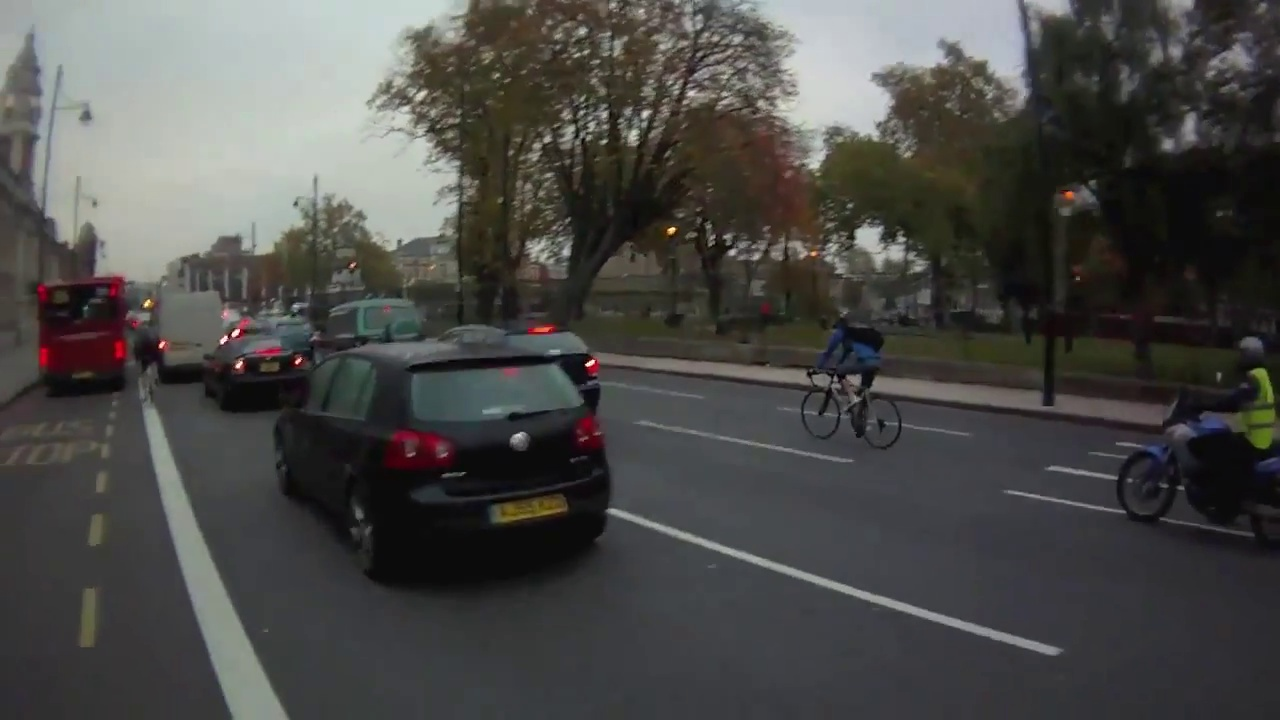cyclist_side: (786, 298, 907, 448)
